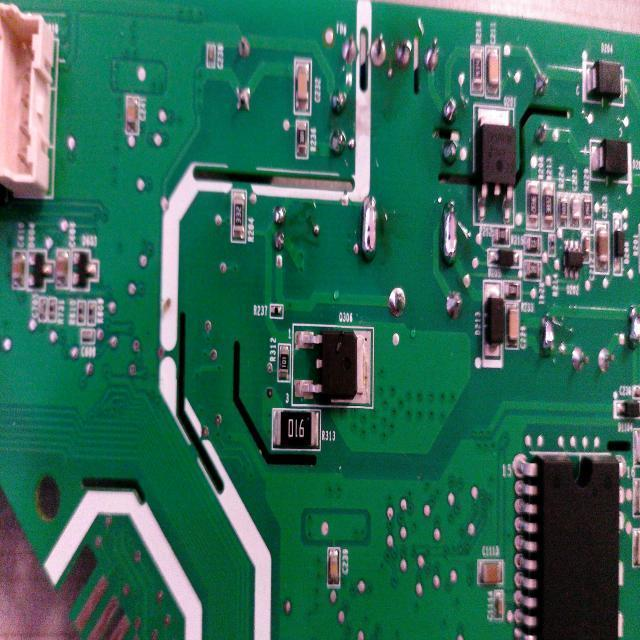Soldering shorted: (360, 190, 380, 266), (440, 196, 456, 272), (538, 311, 558, 360), (623, 301, 640, 346)
